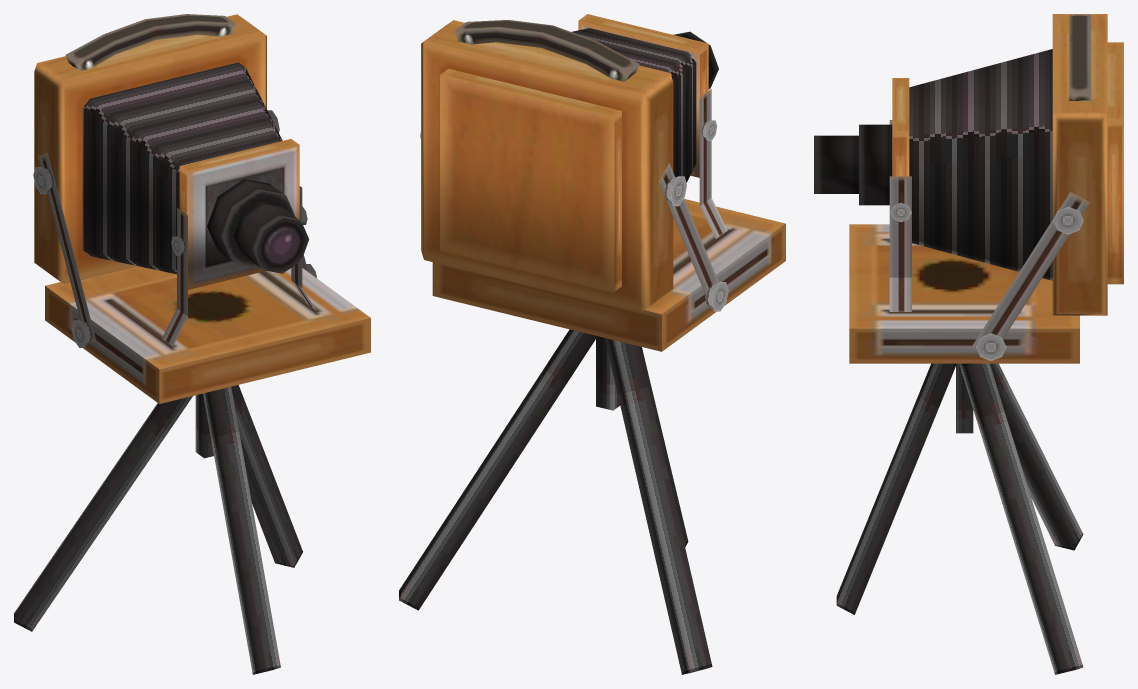
Rendered from int_sdo_camera.dae.
The picture shows the model from 3 angles, left to right: view 1: azimuth 30°, elevation 25°; view 2: azimuth 150°, elevation 25°; view 3: azimuth 270°, elevation 25°; orthographic projection. The views are drawn at different scales.
Visible parts, largest first — view 1: int_sdo_camera; view 2: int_sdo_camera; view 3: int_sdo_camera.
Part boxes in pixels (x1=…): int_sdo_camera: x1=14, y1=14, x2=370, y2=674; int_sdo_camera: x1=399, y1=14, x2=785, y2=674; int_sdo_camera: x1=814, y1=14, x2=1123, y2=674.
Bounding box in the file's own units: 21.88 × 41.05 × 20.12.
2 materials, 2 textured.
